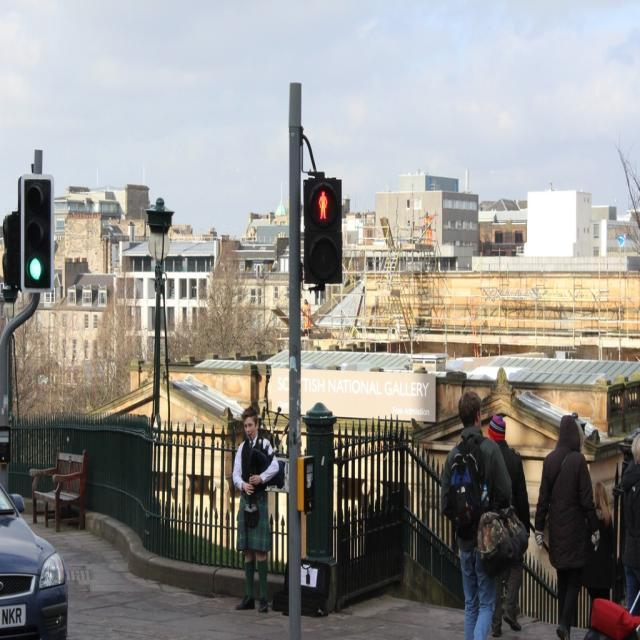traffic light: (304, 178, 343, 285), (24, 179, 51, 290)
